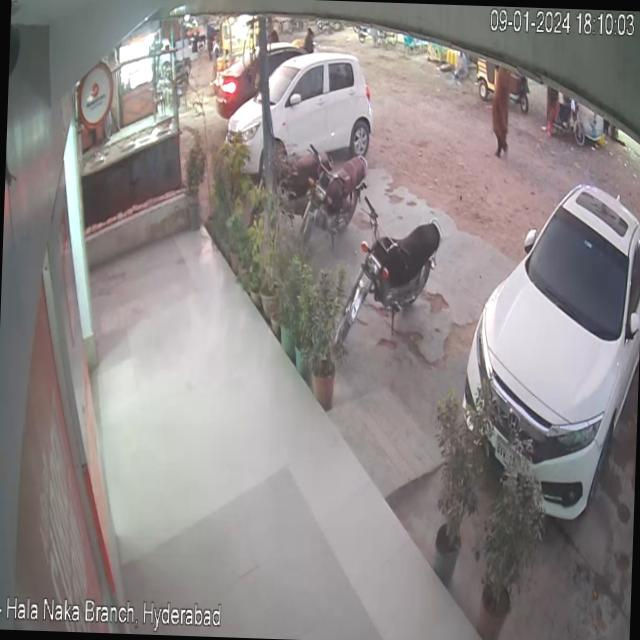Car: (454, 132, 640, 535), (204, 35, 378, 166)
Motorcycle: (333, 184, 453, 356), (303, 142, 374, 240)
